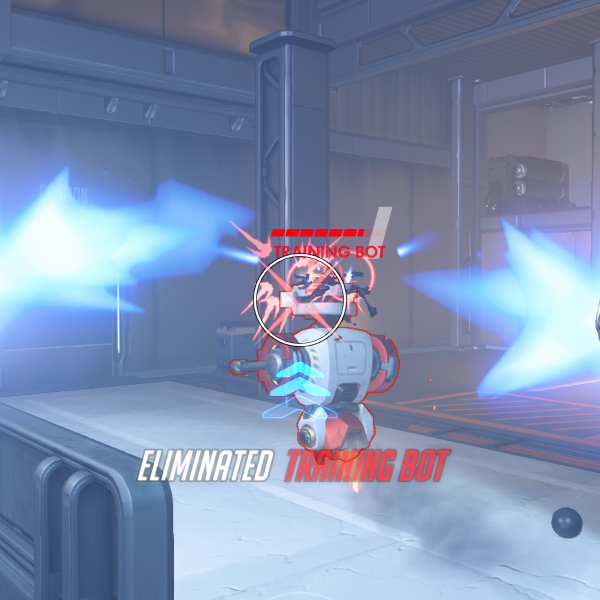hpbar: (270, 228, 385, 238)
